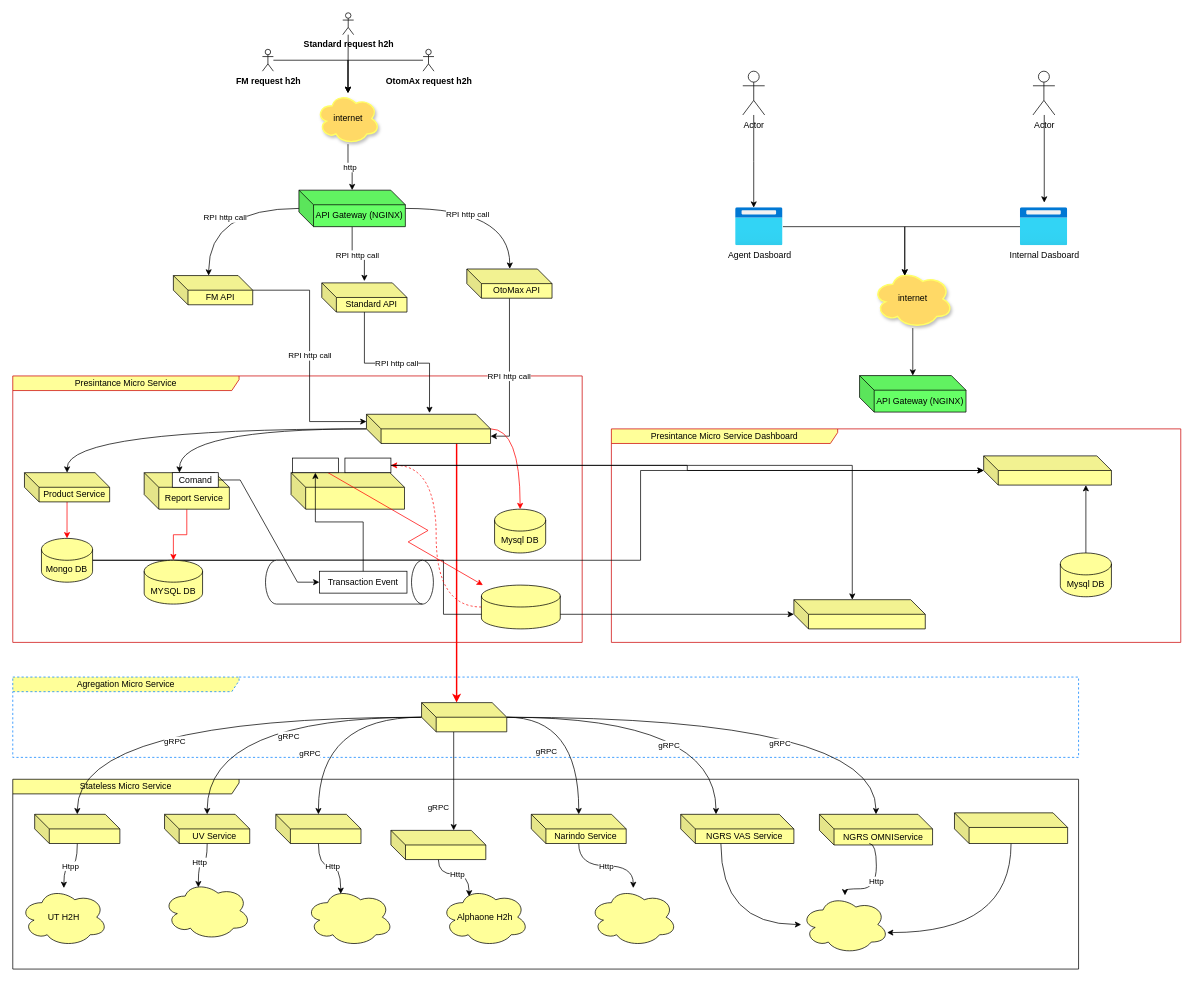
Image size: 1194x982. Some labels were removed from this diagram. The centre of each missing label's shape, as x and y in pixels:
"Agent Dashboard API" belongs at (x=859, y=614).
"Alphaone Service" belongs at (x=438, y=845).
"Consumer" belongs at (x=315, y=465).
"Internal Dashboard API" belongs at (x=1047, y=470).
"Meilisearch DB" belongs at (x=520, y=606).
"Narindo H2h" belongs at (x=633, y=916).
"NGRS H2H" belongs at (x=844, y=924).
"NGRS Regular Service" belongs at (x=1011, y=828).
"Order Service" belongs at (x=464, y=717).
"Query" belongs at (x=367, y=465).
"Report Query Service" belongs at (x=347, y=490).
"SEPULSA H2H" belongs at (x=349, y=916).
"Sepulsa Service" belongs at (x=318, y=829).
"Transaction Service" belongs at (x=428, y=428).
"UT Service" belongs at (x=77, y=829).
"UV H2H" belongs at (x=207, y=910).
